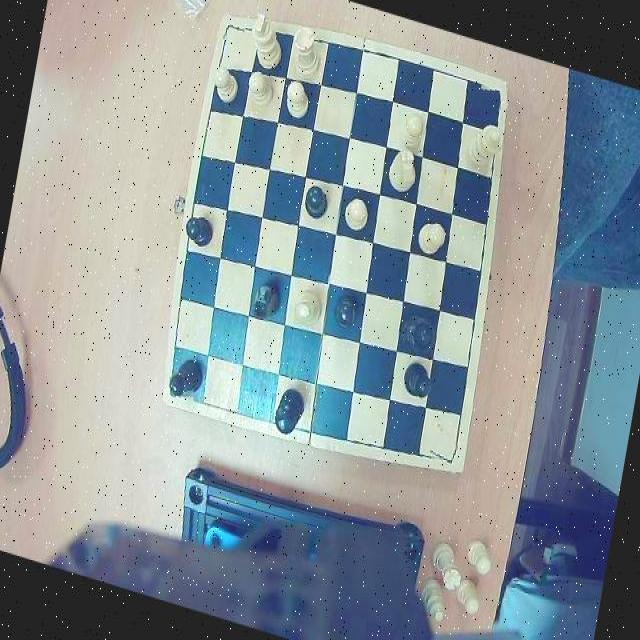chess-table-corners: (428, 432, 465, 474), (160, 371, 197, 408), (478, 78, 510, 114), (217, 13, 246, 48)
